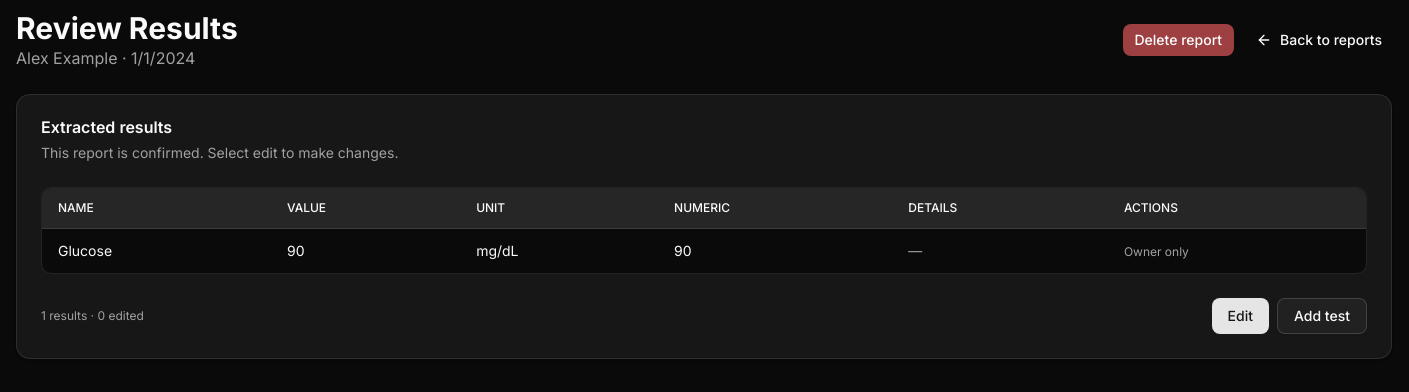
Scenario: final report enters draft mode on edit
The image size is (1409, 392).
Check: the text "Glucose" is shown, box [58,242,112,259]
Check: the button "review & confirm" is not shown
Step 1. Click the button "Edit" → [1240, 316], box [1212,298,1269,334]
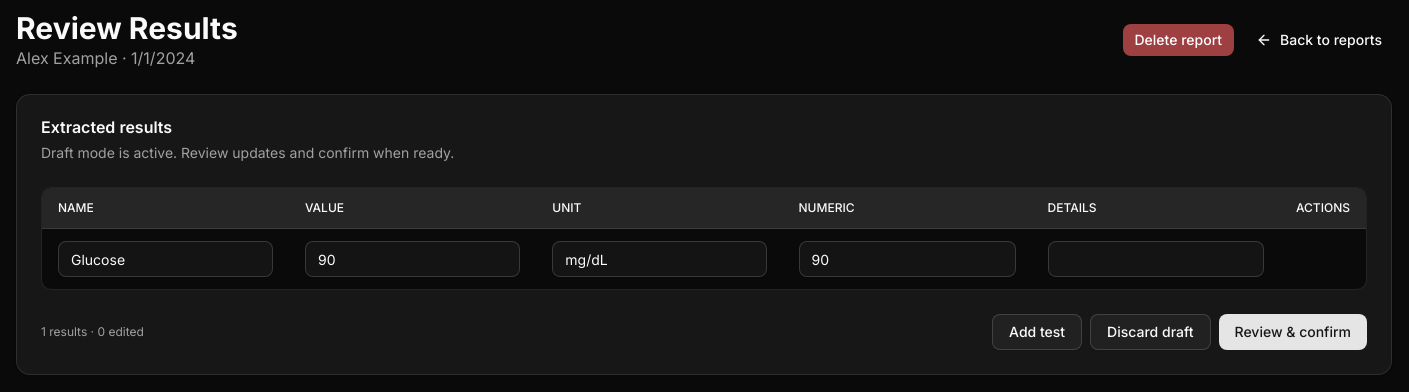
Check: the button "Discard draft" is shown, box [1090,314,1210,350]
Check: the button "Review & confirm" is shown, box [1218,314,1367,350]
Check: the field named "name" is shown, box [58,241,273,277]
